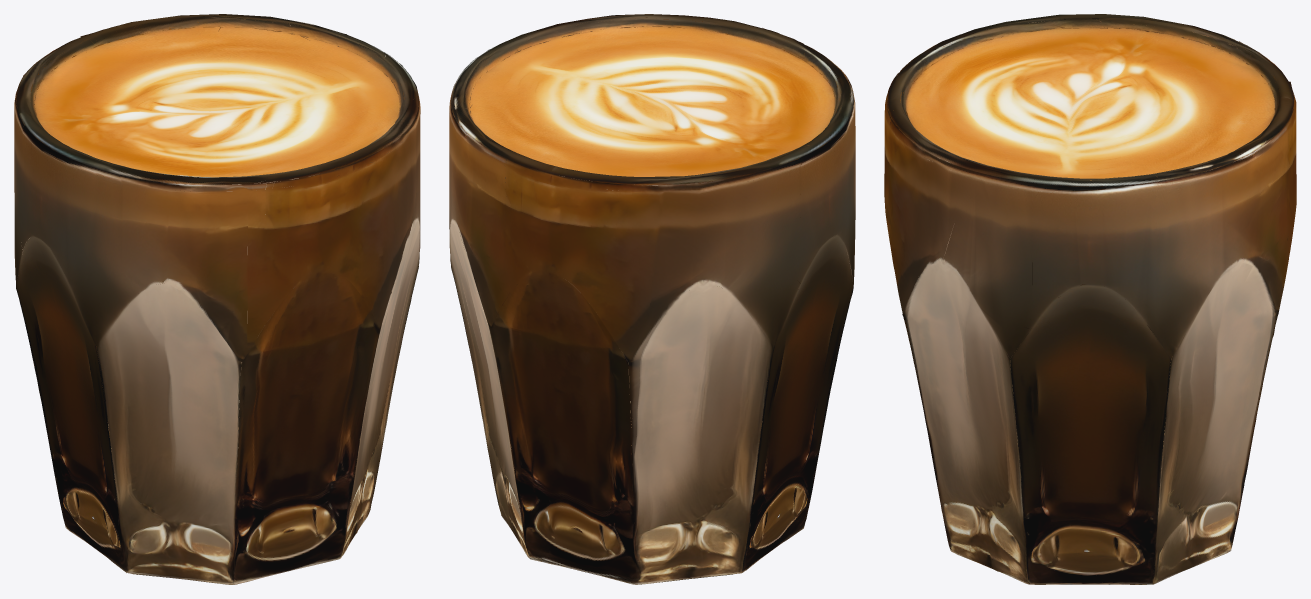
Rendered from cortado.glb.
3 views of the same model, side by side, from view 1: azimuth 30°, elevation 25°; view 2: azimuth 150°, elevation 25°; view 3: azimuth 270°, elevation 25° (orthographic).
Parts seen in each view (by area): view 1: model; view 2: model; view 3: model.
Part boxes in pixels (x1,y1,x2,y2): model: [14, 14, 420, 584]; model: [449, 14, 855, 584]; model: [884, 14, 1296, 584].
Size of the model in its own units: 1.64 by 1.9 by 1.64.
1 material, 1 textured.
